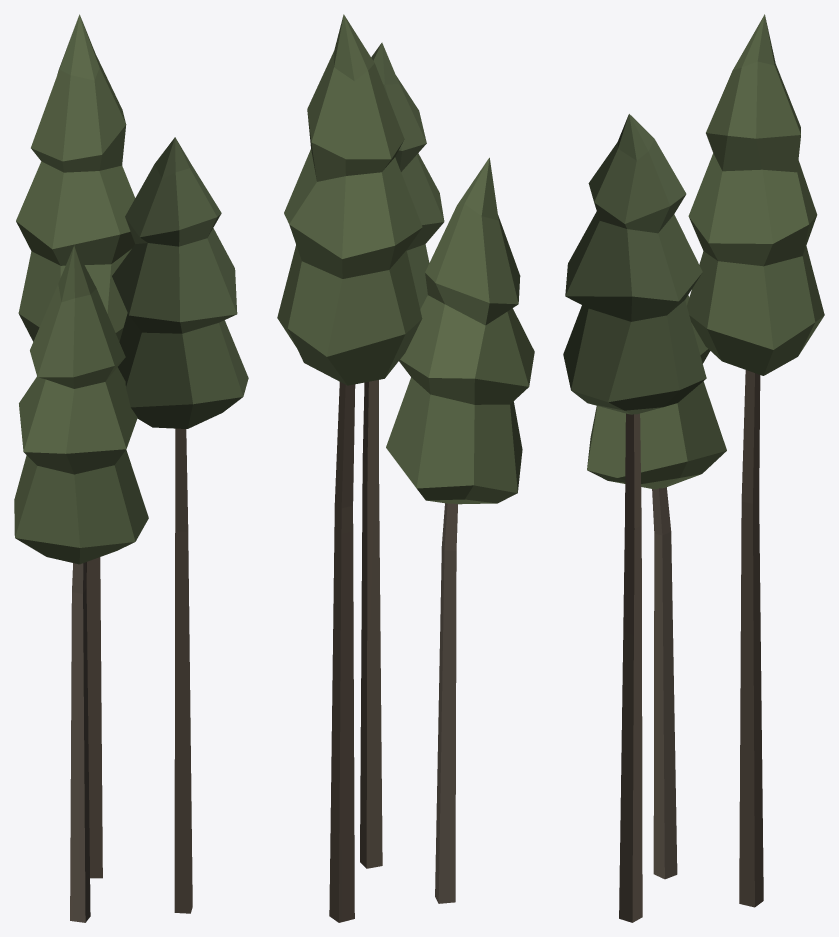
The model's file is env_pines4.gltf.
The picture shows the model from 3 angles, left to right: view 1: azimuth 30°, elevation 25°; view 2: azimuth 150°, elevation 25°; view 3: azimuth 270°, elevation 25°; orthographic projection. The views are drawn at different scales.
Visible parts, largest first — view 1: env_pines4; view 2: env_pines4; view 3: env_pines4.
Boxes of the visible parts, <box> form: env_pines4: <box>14,14,248,922</box>; env_pines4: <box>277,14,534,922</box>; env_pines4: <box>563,14,824,922</box>.
Size of the model in its own units: 5.54 by 21.77 by 5.84.
1 material, 1 textured.
